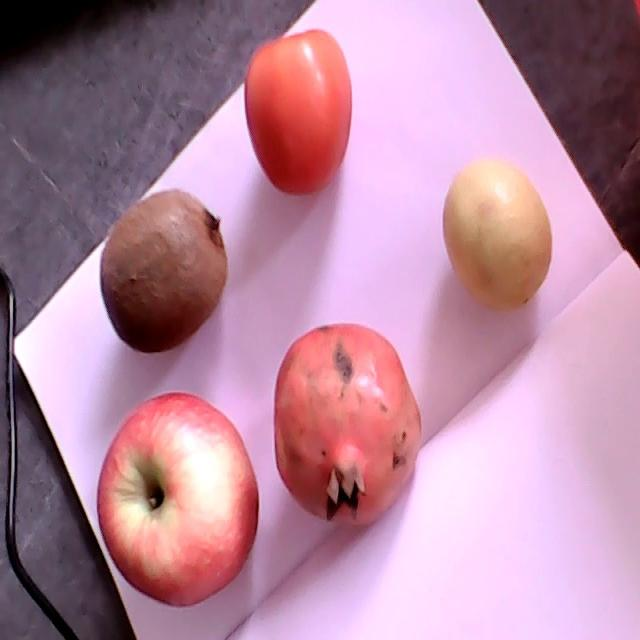apple: (97, 393, 259, 607)
kiwi: (102, 190, 228, 354)
lemon: (443, 161, 550, 310)
pomegranate: (274, 324, 421, 525)
tomato: (246, 28, 352, 195)
